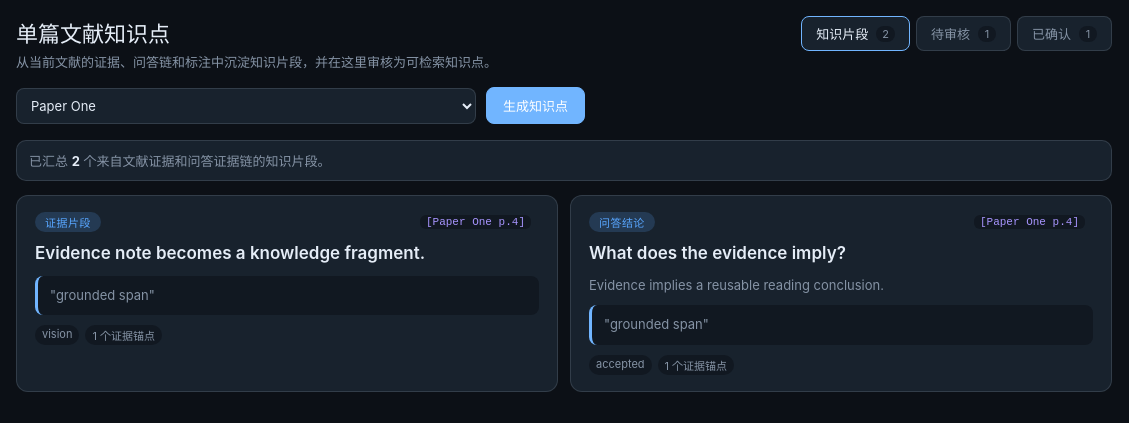
it: Knowledge review › scopes the paper knowledge workflow to the selected paper
This screenshot has width=1129, height=423.
Expected: the text "Evidence note becomes a knowledge fragment." is shown, [35, 243, 425, 263]
What coordinates should you click on to do the following:
click the button "待审核 1"
I would click on:
 (964, 34)
Its box is [916, 16, 1011, 51].
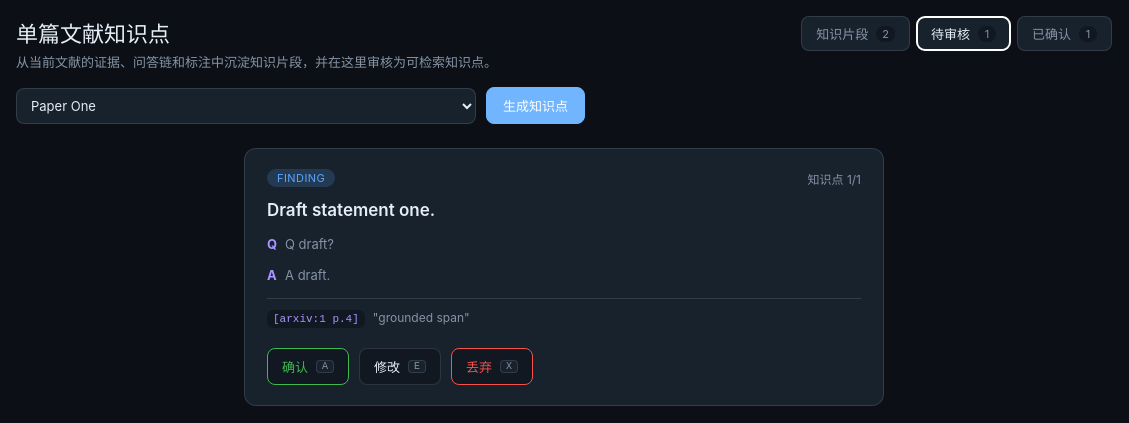
Now the text "Draft statement one." is shown, box [267, 200, 435, 220]
